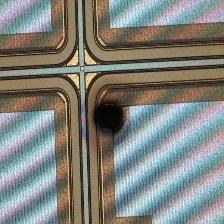PARTICLE: (88, 95, 132, 139)
